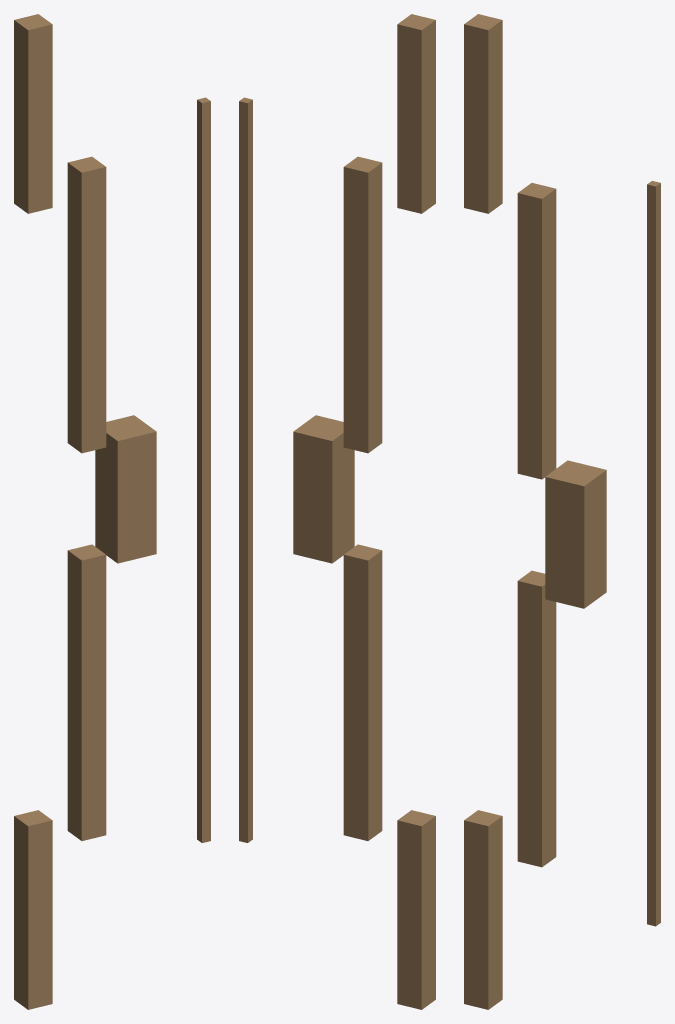
File: training_bow_legacy.glb
3 views of the same model, side by side, from view 1: azimuth 30°, elevation 25°; view 2: azimuth 150°, elevation 25°; view 3: azimuth 330°, elevation 25° (orthographic).
Parts seen in each view (by area): view 1: lower_limb_inner, upper_limb_inner, string, grip, lower_limb_tip, upper_limb_tip; view 2: lower_limb_inner, upper_limb_inner, string, grip, lower_limb_tip, upper_limb_tip; view 3: upper_limb_inner, lower_limb_inner, string, grip, upper_limb_tip, lower_limb_tip.
Boxes of the visible parts, bbox=[...] form: lower_limb_inner: bbox=[67, 544, 106, 840]; upper_limb_inner: bbox=[67, 156, 106, 453]; string: bbox=[197, 97, 210, 842]; grip: bbox=[95, 415, 156, 563]; lower_limb_tip: bbox=[14, 810, 52, 1009]; upper_limb_tip: bbox=[14, 14, 52, 213]; lower_limb_inner: bbox=[343, 544, 382, 840]; upper_limb_inner: bbox=[343, 156, 382, 453]; string: bbox=[239, 97, 252, 842]; grip: bbox=[293, 415, 354, 563]; lower_limb_tip: bbox=[397, 810, 435, 1009]; upper_limb_tip: bbox=[397, 14, 435, 213]; upper_limb_inner: bbox=[517, 183, 556, 479]; lower_limb_inner: bbox=[517, 570, 556, 867]; string: bbox=[647, 181, 660, 926]; grip: bbox=[545, 460, 606, 608]; upper_limb_tip: bbox=[464, 14, 502, 213]; lower_limb_tip: bbox=[464, 810, 502, 1009].
Size of the model in its own units: 0.384 by 1.92 by 0.08.
